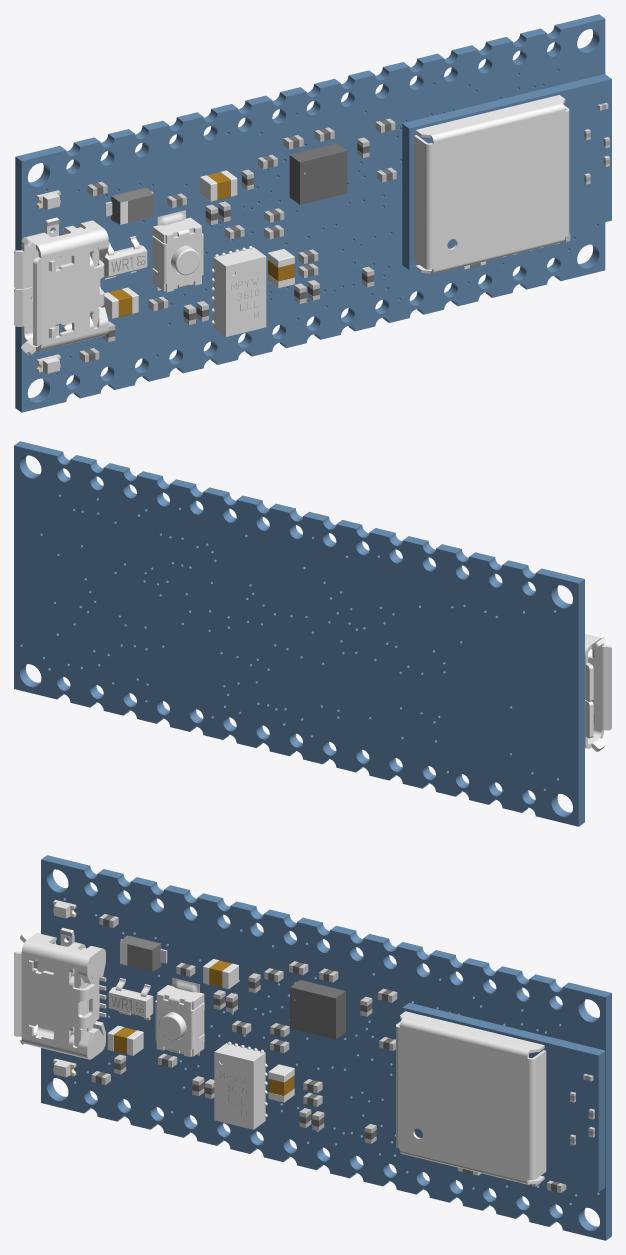
The model's file is nano33ble.fbx.
3 renders of one model, top to bottom at view 1: azimuth 30°, elevation 25°; view 2: azimuth 150°, elevation 25°; view 3: azimuth 330°, elevation 25°, orthographic. The views are drawn at different scales.
Parts seen in each view (by area): view 1: Board; view 2: Board; view 3: Board.
Part boxes in pixels (x1,y1,x2,y2): Board: (14, 14, 611, 412); Board: (14, 441, 611, 826); Board: (14, 855, 611, 1240).
Size of the model in its own units: 876 by 356 by 71.5.
